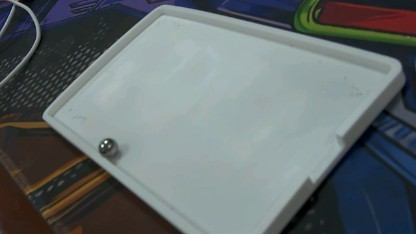ironball: (91, 130, 118, 157)
